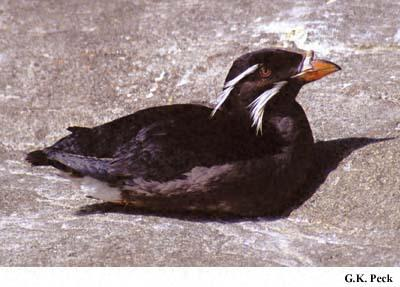008.Rhinoceros_Auklet: (26, 47, 344, 204)
